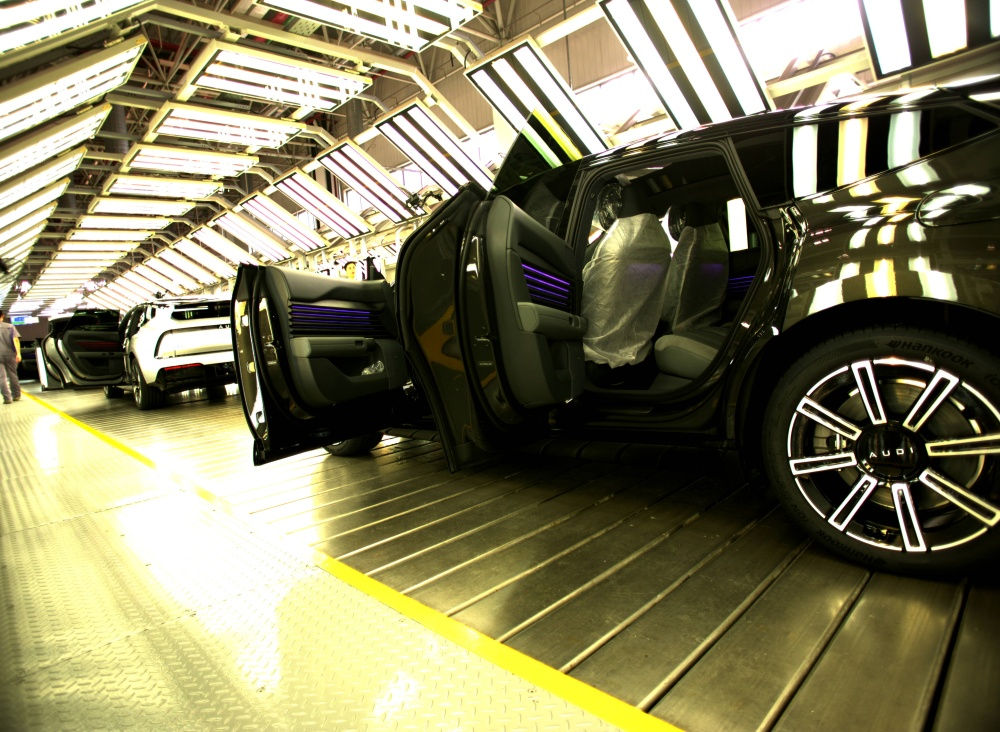armrest_color: (516, 300, 588, 339), (294, 333, 382, 356)
panel_color: (288, 295, 379, 336), (518, 255, 575, 312)
